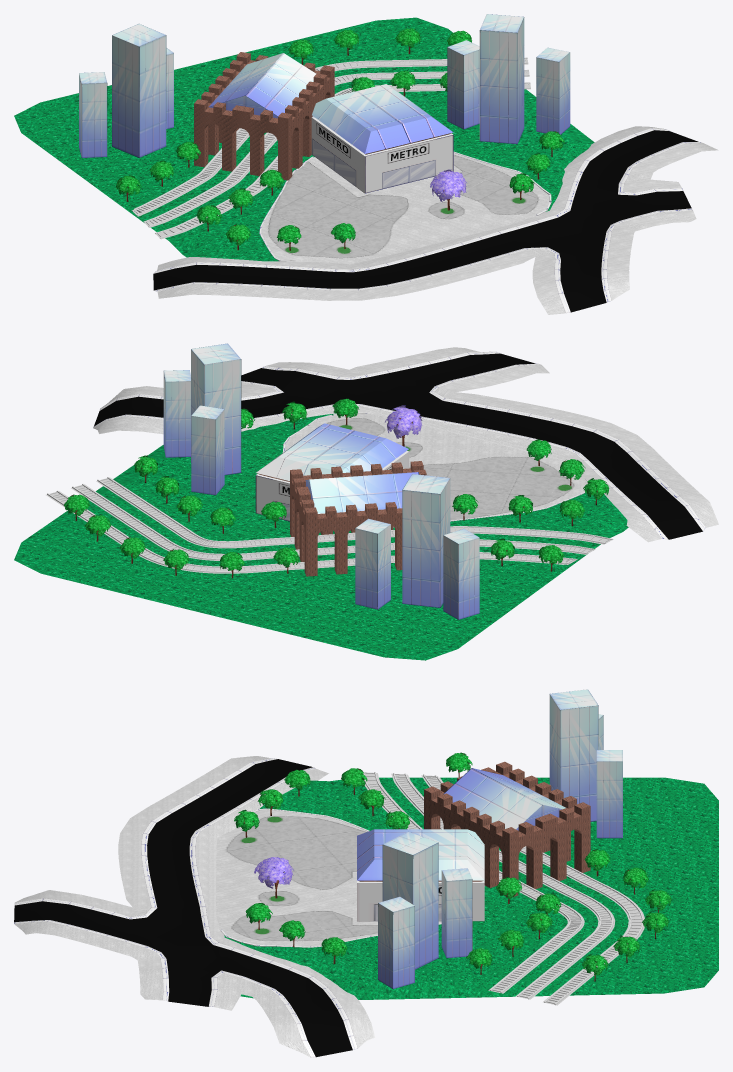
File: exgtérieur gare.fbx
The picture shows the model from 3 angles, top to bottom: view 1: azimuth 30°, elevation 25°; view 2: azimuth 150°, elevation 25°; view 3: azimuth 270°, elevation 25°; orthographic projection. The views are drawn at different scales.
Parts seen in each view (by area): view 1: Plane, Cube, Cube.003, Cube.005, Cube.001, Cube.004, bordures; view 2: Plane, Cube.003, Cube, Cube.001, Cube.005, Cube.004; view 3: Plane, Cube.003, Cube, Cube.005, Cube.001, Cube.004.
Part boxes in pixels (x1,y1,x2,y2): Plane: (14,17,594,264); Cube: (79,14,570,193); Cube.003: (153,126,718,314); Cube.005: (194,52,334,180); Cube.001: (132,57,530,239); Cube.004: (430,169,466,210); bordures: (259,151,551,261); Plane: (14,413,628,660); Cube.003: (93,347,718,542); Cube: (163,343,479,619); Cube.001: (46,477,613,573); Cube.005: (290,461,426,576); Cube.004: (385,405,422,446); Plane: (216,777,718,999); Cube.003: (14,756,375,1057); Cube: (357,689,622,988); Cube.005: (424,761,590,897); Cube.001: (363,771,644,1005); Cube.004: (254,857,293,898).
Size of the model in its own units: 3262 by 690 by 3318.
